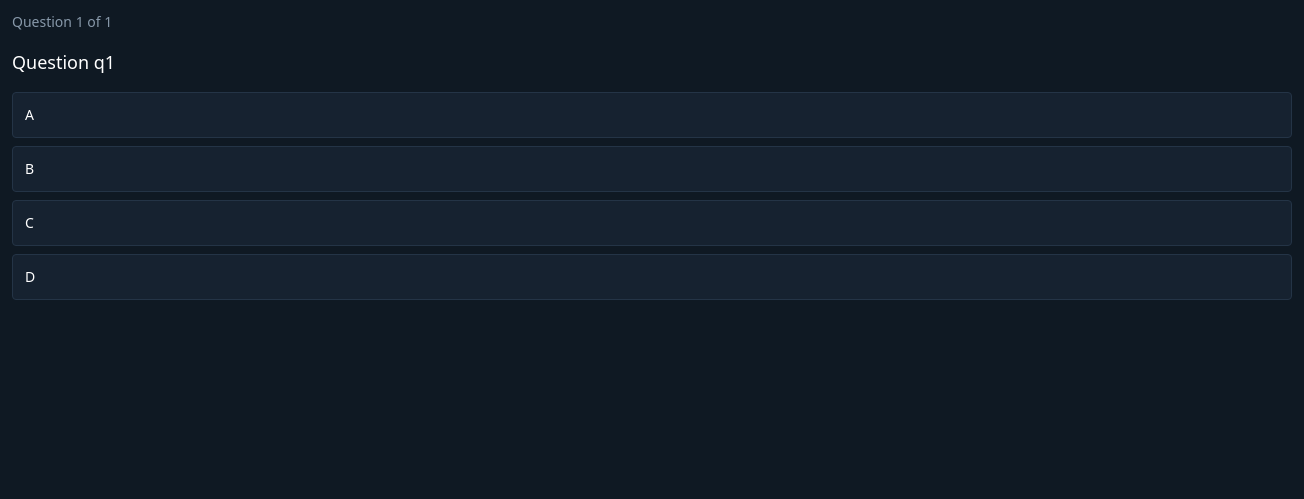
Test: QuizRunner › shows incorrect feedback for a wrong answer
The width and height of the screenshot is (1304, 499).
What coordinates should you click on to do the following:
click the button "B"
I would click on:
 (30, 168)
Its box is [12, 146, 1292, 192].
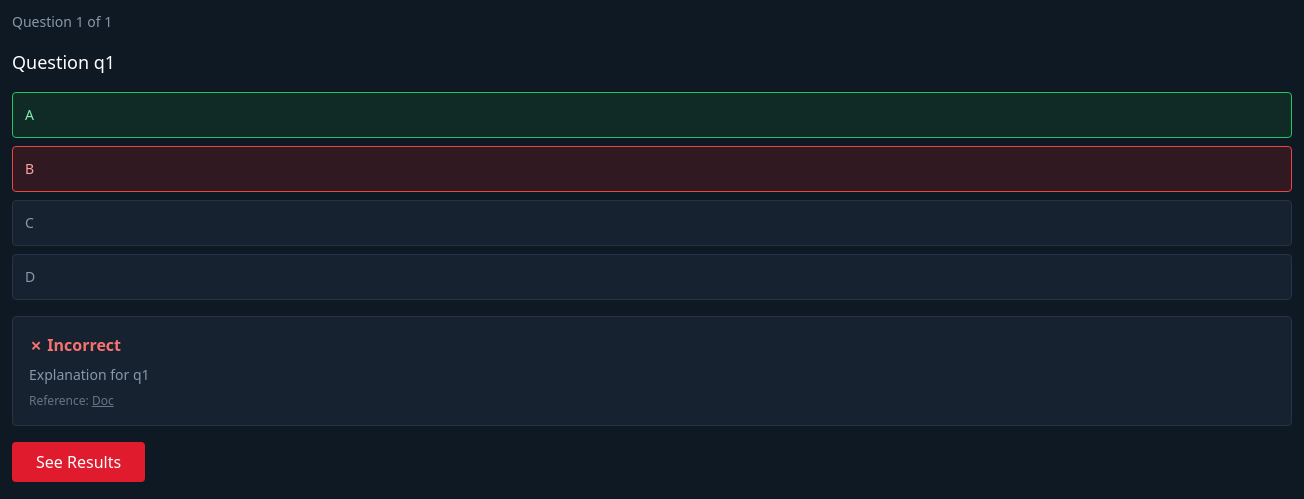
Check: the text "✗ Incorrect" is shown, box [29, 334, 121, 356]
